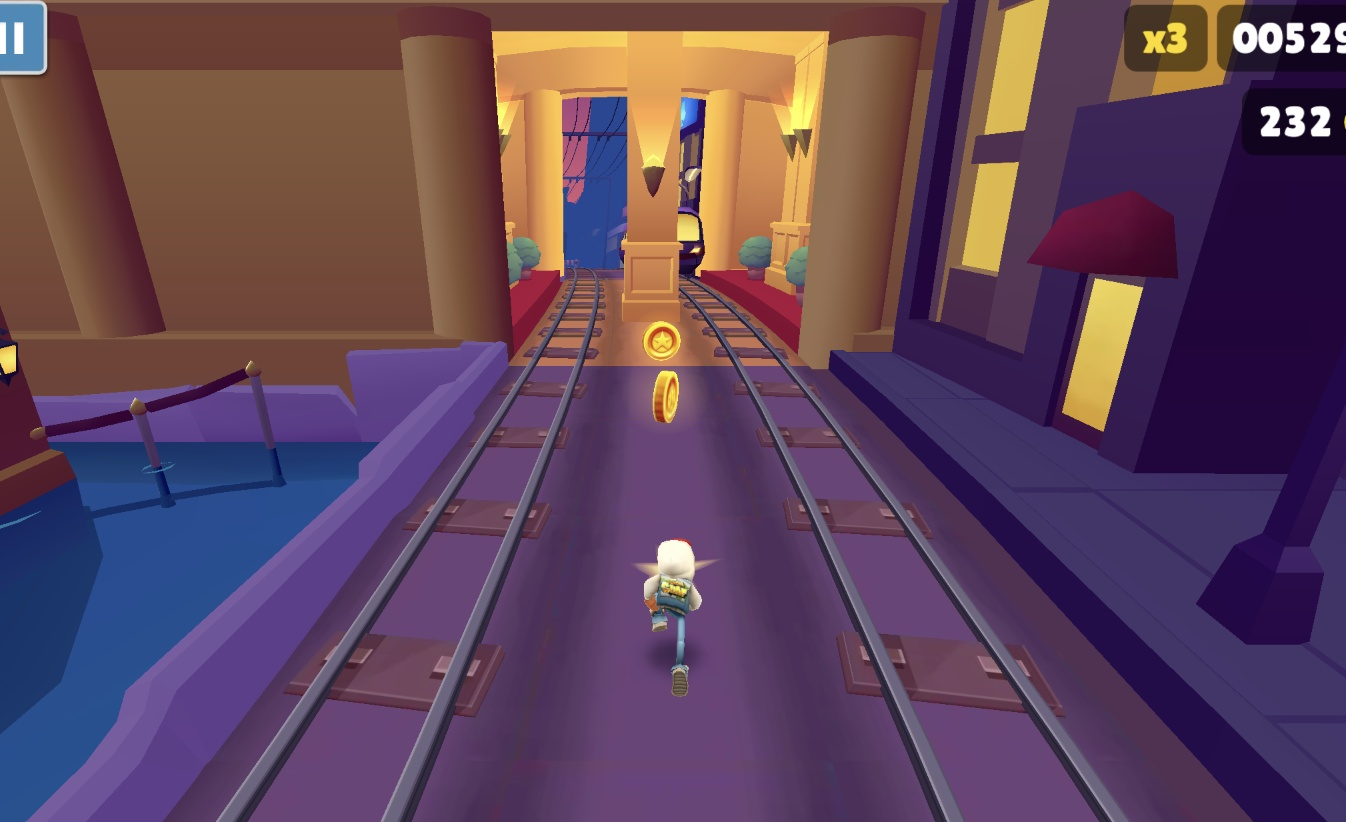pillar: (622, 34, 680, 310), (580, 178, 608, 268)
train: (680, 206, 704, 278)
